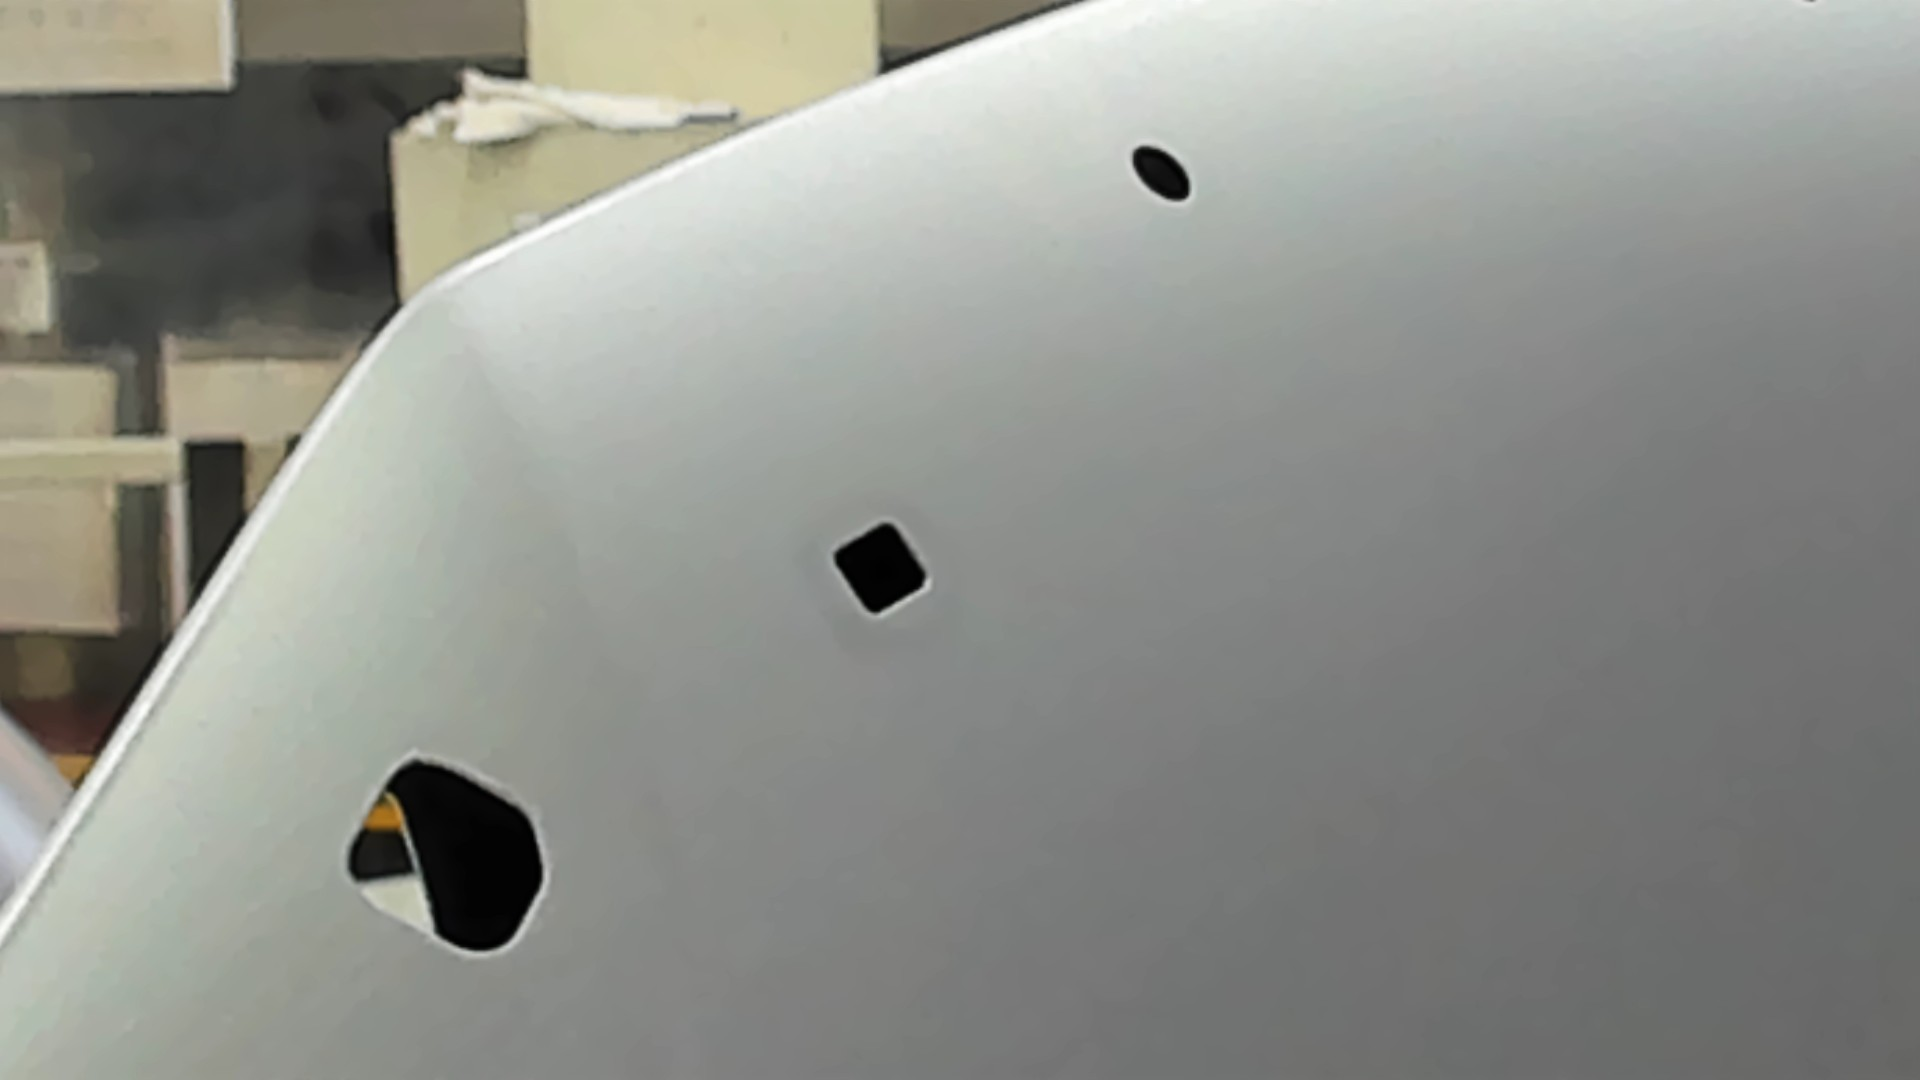chico: (1127, 140, 1200, 204)
grande: (332, 752, 550, 960)
mediano: (820, 518, 938, 622)
